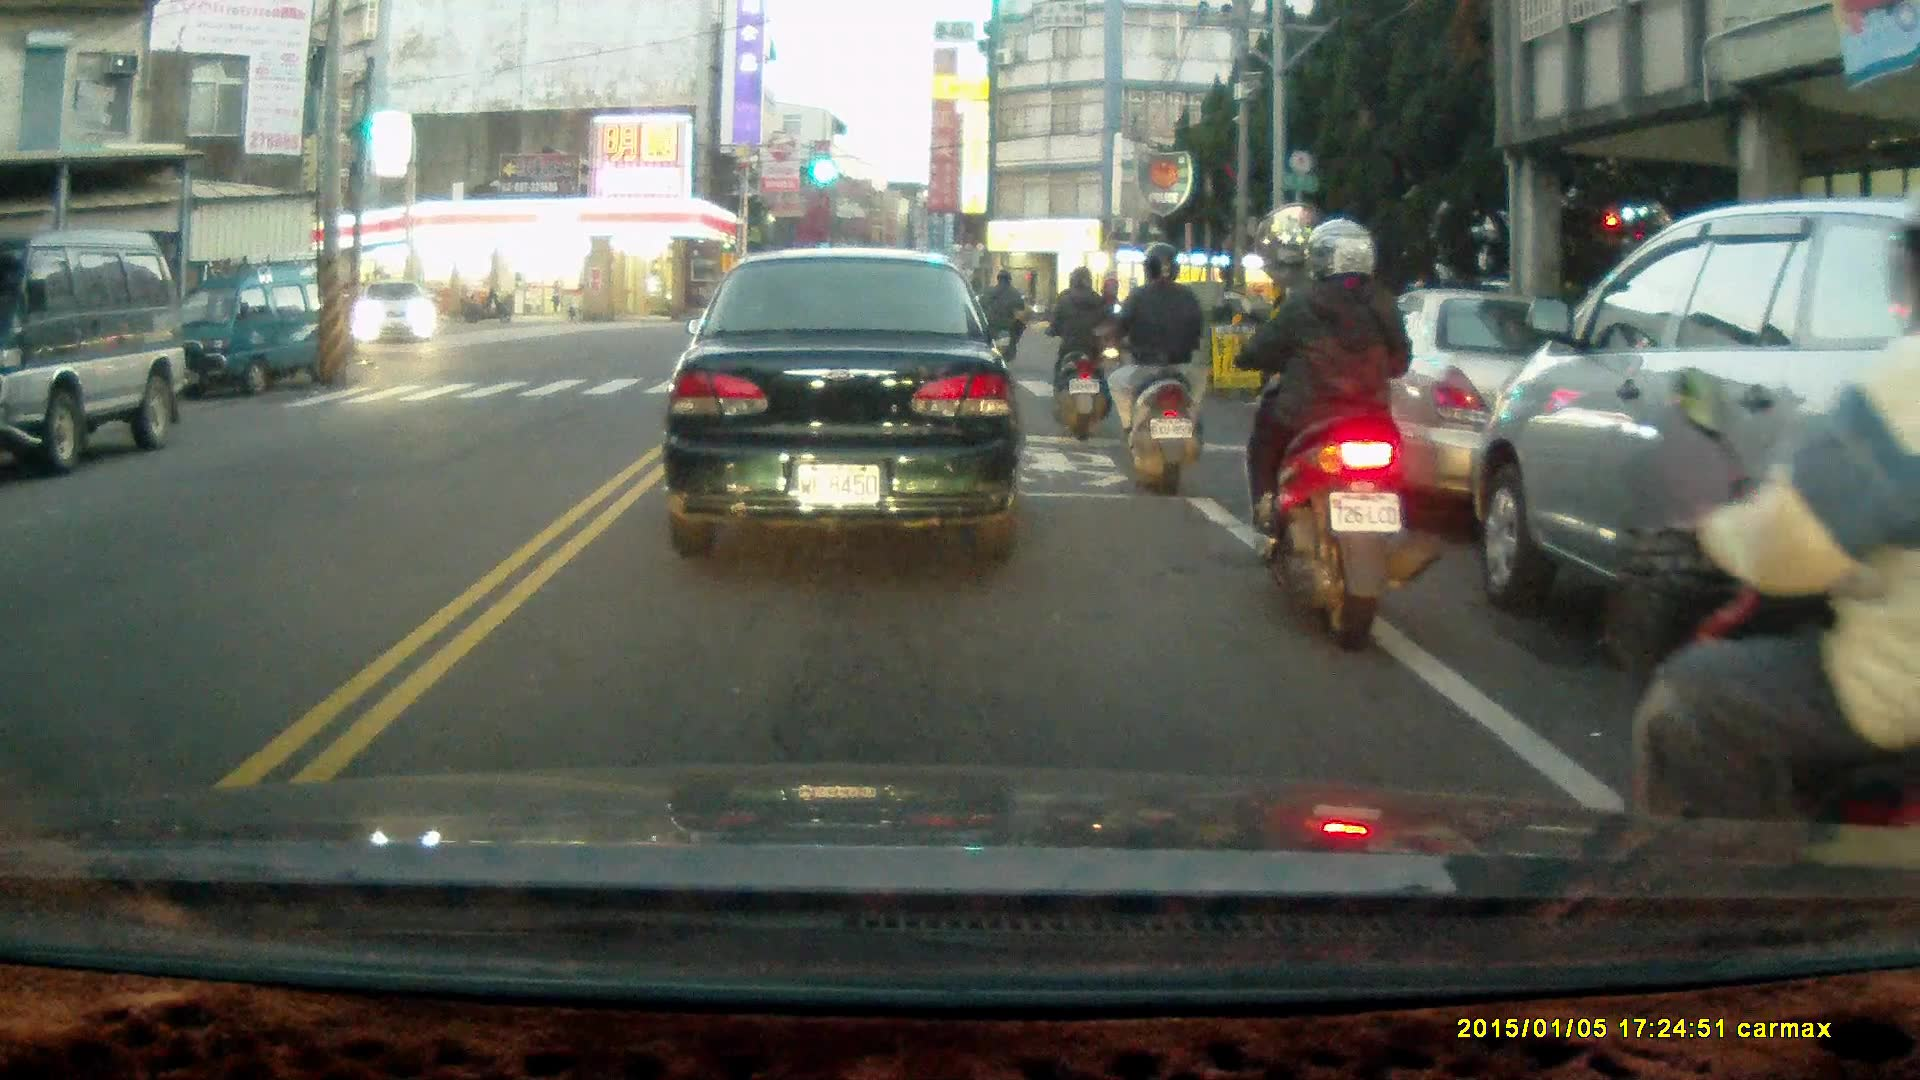rider: (1605, 219, 1920, 862), (1230, 215, 1442, 656), (1086, 246, 1207, 499), (1033, 263, 1113, 436), (982, 269, 1026, 366)
vehicle: (1468, 195, 1920, 795), (664, 247, 1026, 560), (1303, 288, 1662, 520), (1, 234, 180, 467), (160, 263, 349, 403), (358, 281, 441, 349)
